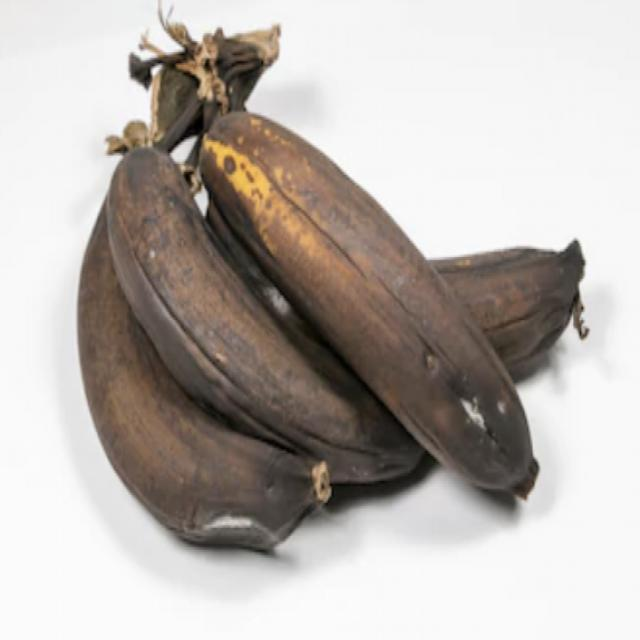rotten-banana: (231, 109, 546, 514), (69, 162, 329, 561), (120, 121, 408, 478), (483, 226, 585, 346)
